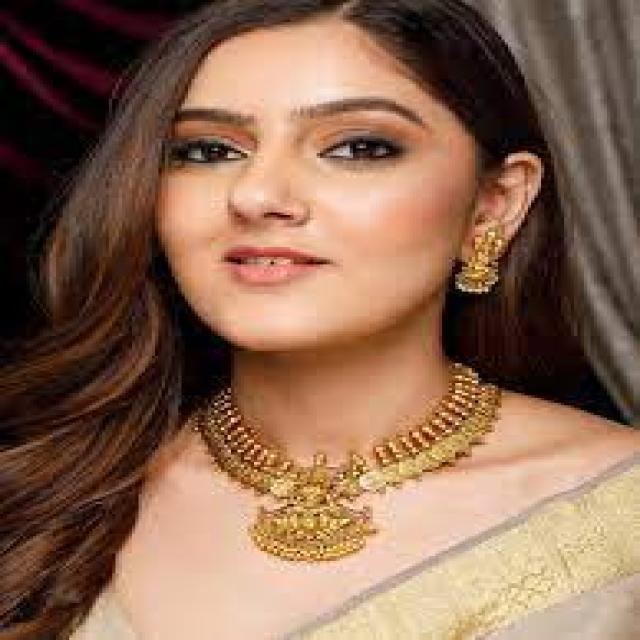Earring: (446, 207, 518, 303)
